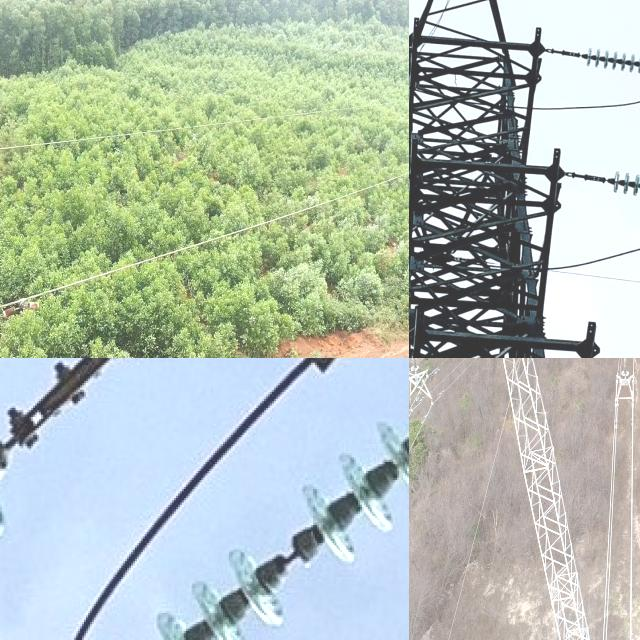杆塔: (409, 0, 599, 358)
正常电缆: (0, 161, 409, 321), (447, 399, 511, 640), (602, 401, 617, 640), (605, 429, 617, 640), (628, 358, 636, 640), (436, 358, 480, 401), (432, 358, 469, 390), (430, 358, 452, 375)
正常绝缘子: (128, 397, 409, 640), (585, 43, 640, 77), (603, 167, 640, 207)
绝缘子破损: (272, 521, 311, 580)
